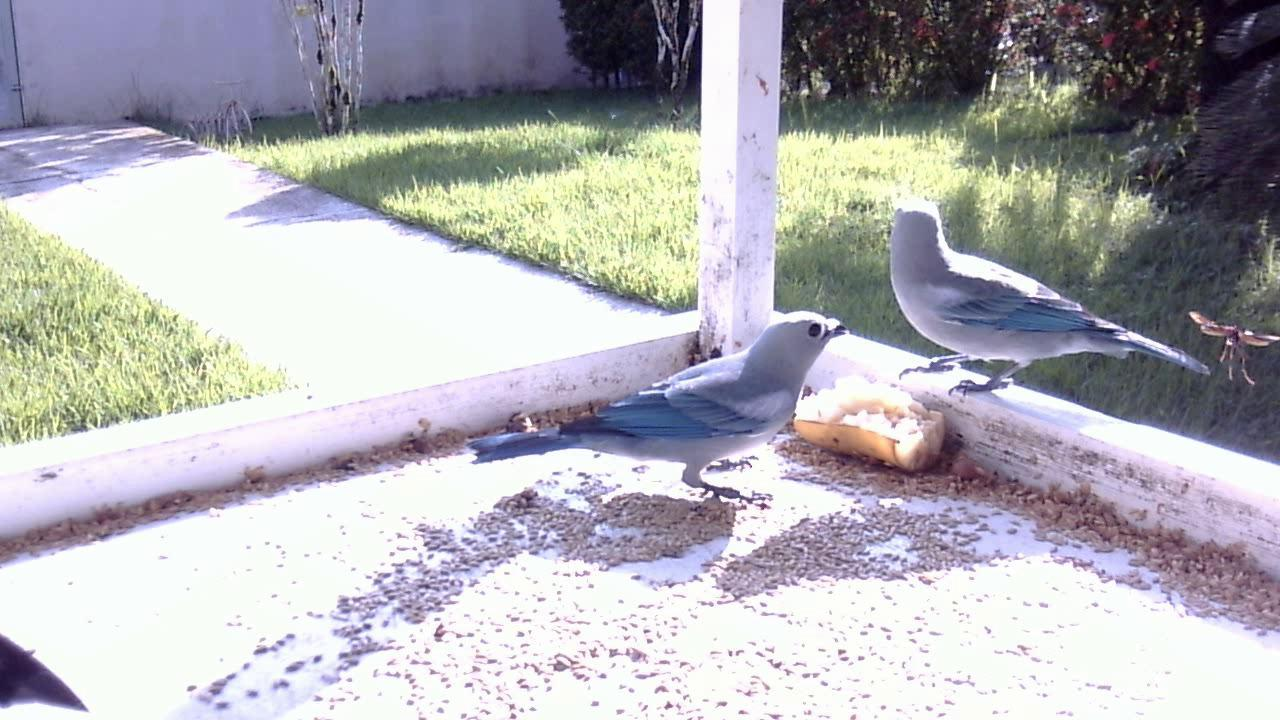sanhaco_da_amazonia: (468, 304, 857, 518), (876, 196, 1210, 411)
